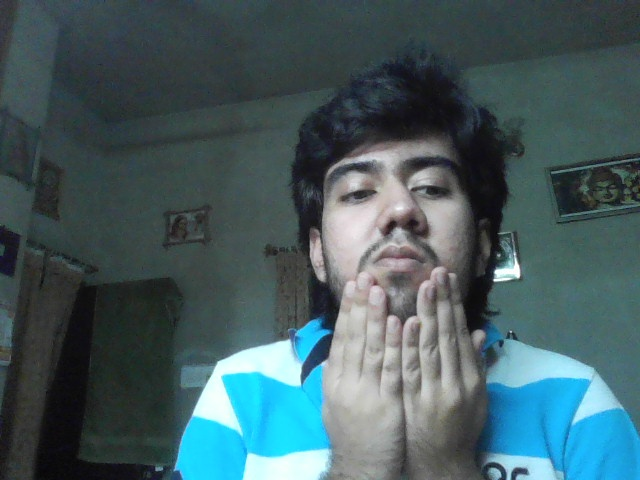ThankYou: (325, 267, 487, 480)
